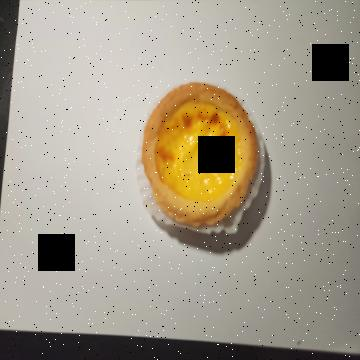EggTart: (143, 81, 258, 227)
